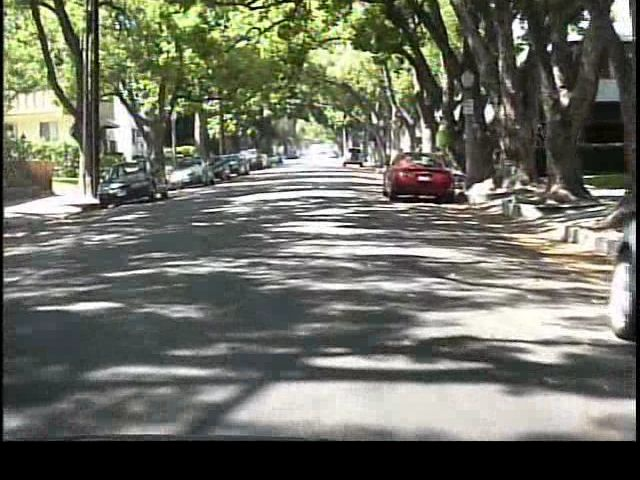person: (146, 145, 166, 186)
